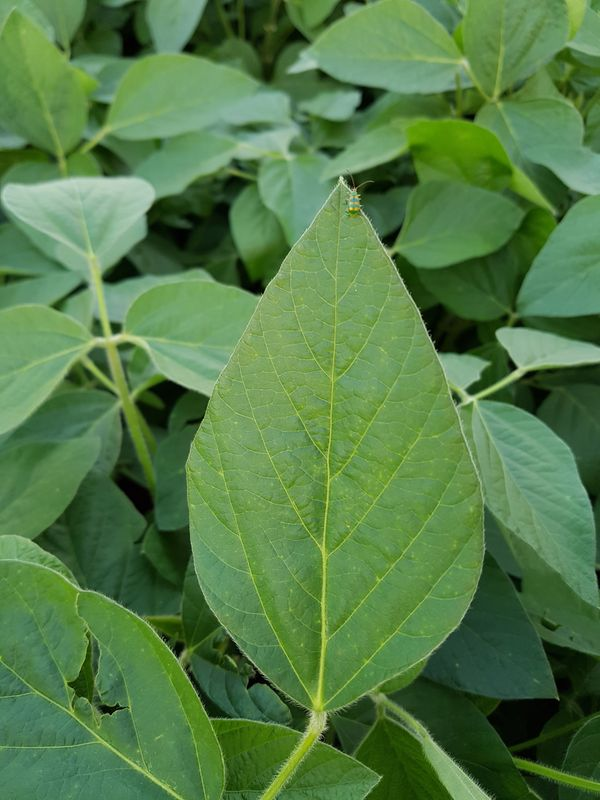Diabrotica_speciosa: (336, 168, 380, 221)
